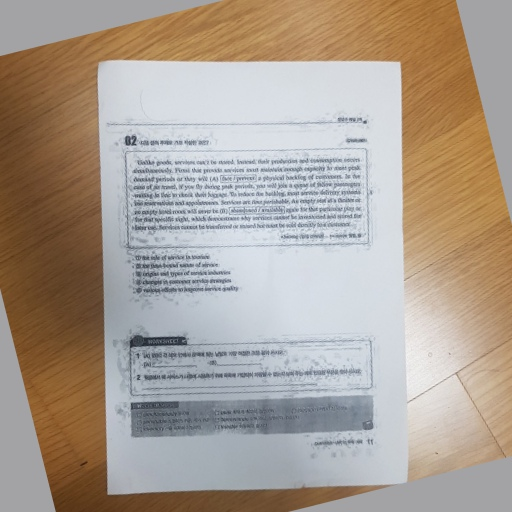Paper_2: (90, 55, 423, 502)
